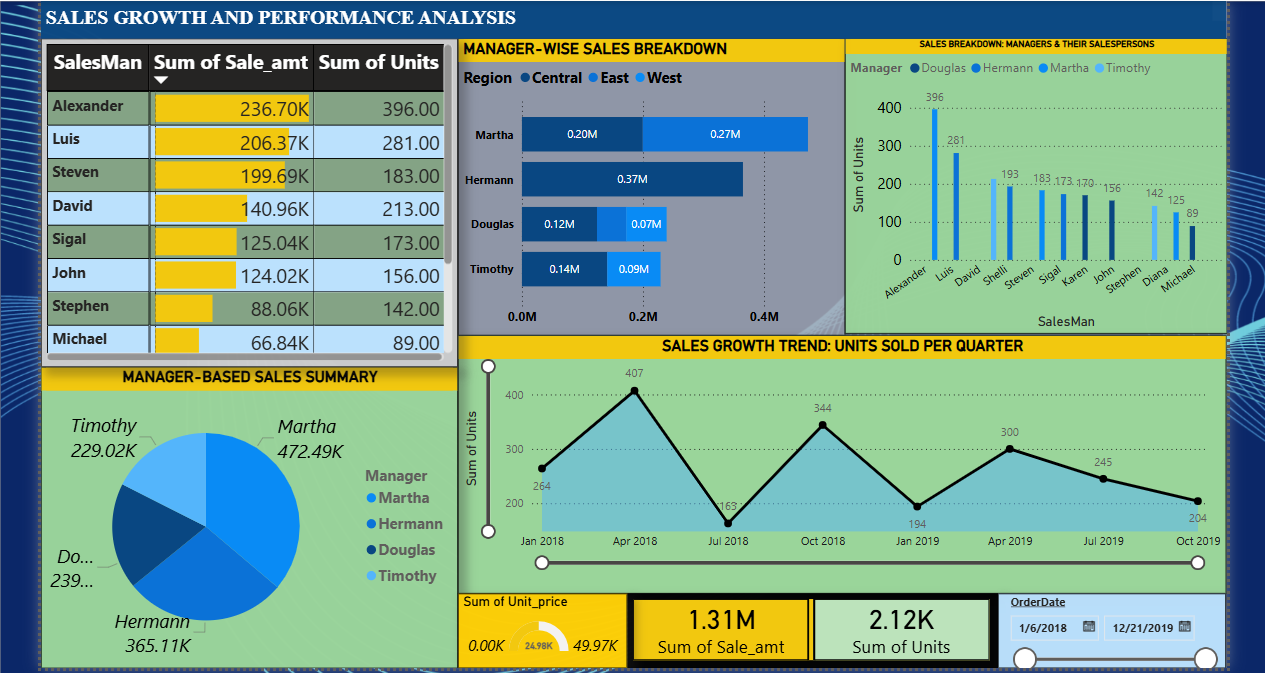

This screenshot's page, from the dashboard's own definition file:
{"tool":"powerbi","page":{"name":"Page 1","canvas":[1280,720],"ordinal":0},"visuals":[{"type":"barChart","title":"MANAGER-WISE SALES BREAKDOWN","fields":{"Y":["Sum(Sales Data.Sale_amt)"],"Category":["Sales Data.Manager"],"Series":["Sales Data.Region"]},"box":[450.1,40.5,417.8,320.6],"z":0},{"type":"clusteredColumnChart","title":"SALES BREAKDOWN: MANAGERS & THEIR SALESPERSONS","fields":{"Category":["Sales Data.SalesMan"],"Y":["Sum(Sales Data.Units)"],"Series":["Sales Data.Manager"]},"box":[867.9,40.5,412.9,319],"z":1000},{"type":"areaChart","title":"SALES GROWTH TREND: UNITS SOLD PER QUARTER","fields":{"Y":["Sum(Sales Data.Units)"],"Category":["Sales Data.OrderDate.Variation.Date Hierarchy.Year","Sales Data.OrderDate.Variation.Date Hierarchy.Quarter","Sales Data.OrderDate.Variation.Date Hierarchy.Month","Sales Data.OrderDate.Variation.Date Hierarchy.Day"]},"box":[450.1,361.1,829,278.5],"z":2000},{"type":"pieChart","title":"MANAGER-BASED SALES SUMMARY","fields":{"Y":["Sum(Sales Data.Sale_amt)"],"Category":["Sales Data.Manager"]},"box":[0,395.1,450.1,325.5],"z":3000},{"type":"pivotTable","fields":{"Values":["Sum(Sales Data.Sale_amt)","Sum(Sales Data.Units)"],"Rows":["Sales Data.SalesMan"]},"box":[0,40.5,450.1,354.6],"z":4000},{"type":"cardVisual","fields":{"Data":["Sum(Sales Data.Sale_amt)","Sum(Sales Data.Units)"]},"box":[633.1,639.6,399.9,81],"z":5000},{"type":"slicer","fields":{"Values":["Sales Data.OrderDate"]},"box":[1033.1,639.6,246.1,81],"z":6000},{"type":"pivotTable","fields":{"Rows":["Sales Data.Item"],"Values":["Sum(Sales Data.Unit_price)"],"Columns":["Sales Data.Region"]},"box":[1264.6,0,14.6,21],"z":7000},{"type":"gauge","fields":{"Y":["Sum(Sales Data.Unit_price)"]},"box":[450.1,639.6,183,81],"z":8000},{"type":"textbox","box":[0,0,1279.2,40.5],"z":10000}]}

Visuals, with their boxes in screenshot pixels (x1, y1, x2, y2):
"MANAGER-WISE SALES BREAKDOWN" barChart: box(454, 37, 838, 332)
"SALES BREAKDOWN: MANAGERS & THEIR SALESPERSONS" clusteredColumnChart: box(838, 37, 1218, 331)
"SALES GROWTH TREND: UNITS SOLD PER QUARTER" areaChart: box(454, 332, 1217, 589)
"MANAGER-BASED SALES SUMMARY" pieChart: box(40, 364, 454, 663)
pivotTable - Sum(Sales Data.Sale_amt) x Sum(Sales Data.Units): box(40, 37, 454, 364)
cardVisual - Sum(Sales Data.Sale_amt) x Sum(Sales Data.Units): box(622, 589, 990, 663)
slicer - Sales Data.OrderDate: box(990, 589, 1217, 663)
pivotTable - Sales Data.Item x Sum(Sales Data.Unit_price): box(1204, 0, 1217, 19)
gauge - Sum(Sales Data.Unit_price): box(454, 589, 622, 663)
textbox: box(40, 0, 1217, 37)
